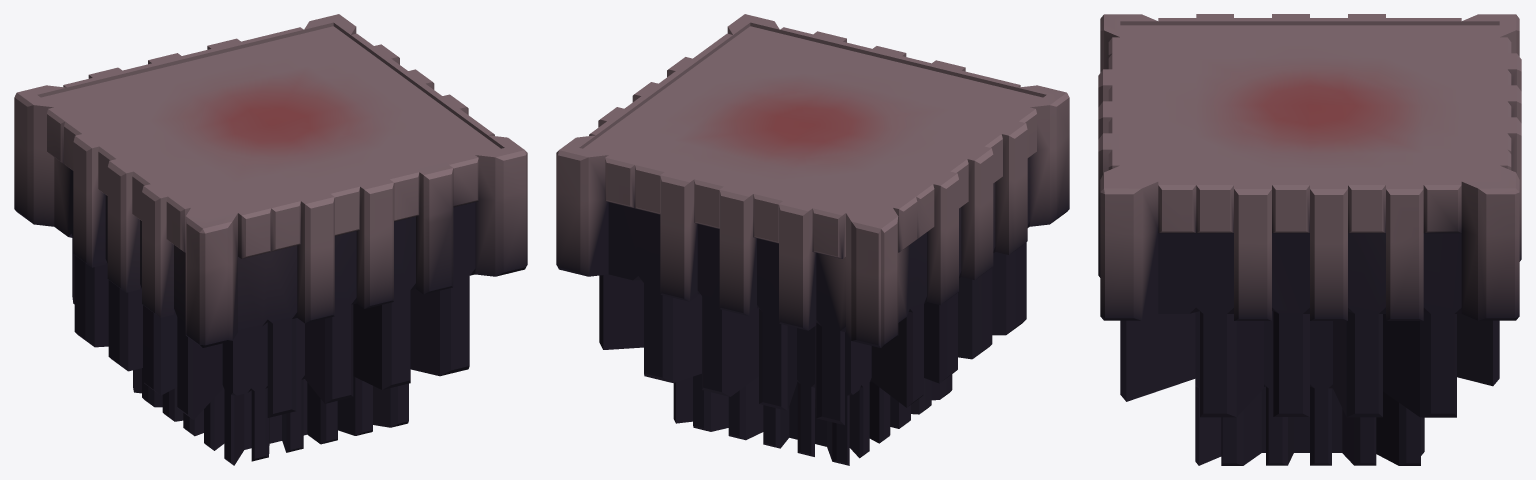
File: island1.fbx
3 views of the same model, side by side, from view 1: azimuth 30°, elevation 25°; view 2: azimuth 150°, elevation 25°; view 3: azimuth 270°, elevation 25° (orthographic). The views are drawn at different scales.
Visible parts, largest first — view 1: arenaSquare; view 2: arenaSquare; view 3: arenaSquare.
Part boxes in pixels (bbox=[...]): arenaSquare: bbox=[14, 14, 527, 465]; arenaSquare: bbox=[556, 14, 1069, 465]; arenaSquare: bbox=[1098, 14, 1521, 465].
Bounding box in the file's own units: 1785 × 1478 × 1785.
